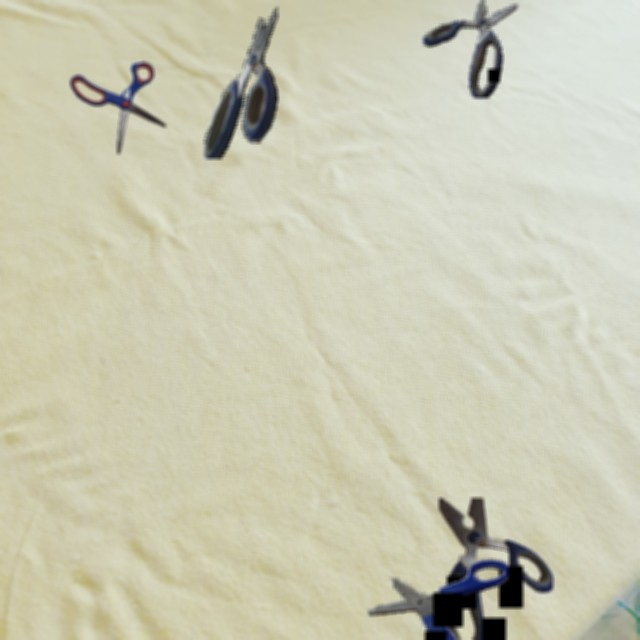scissors: (439, 498, 553, 640), (368, 559, 508, 640), (204, 7, 278, 159), (422, 0, 518, 98), (70, 62, 166, 154)
